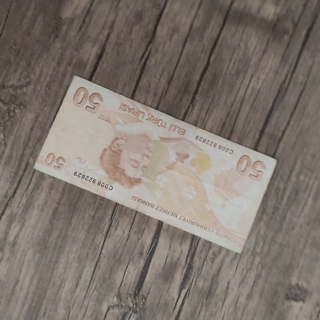50TLBack: (33, 74, 277, 253)
